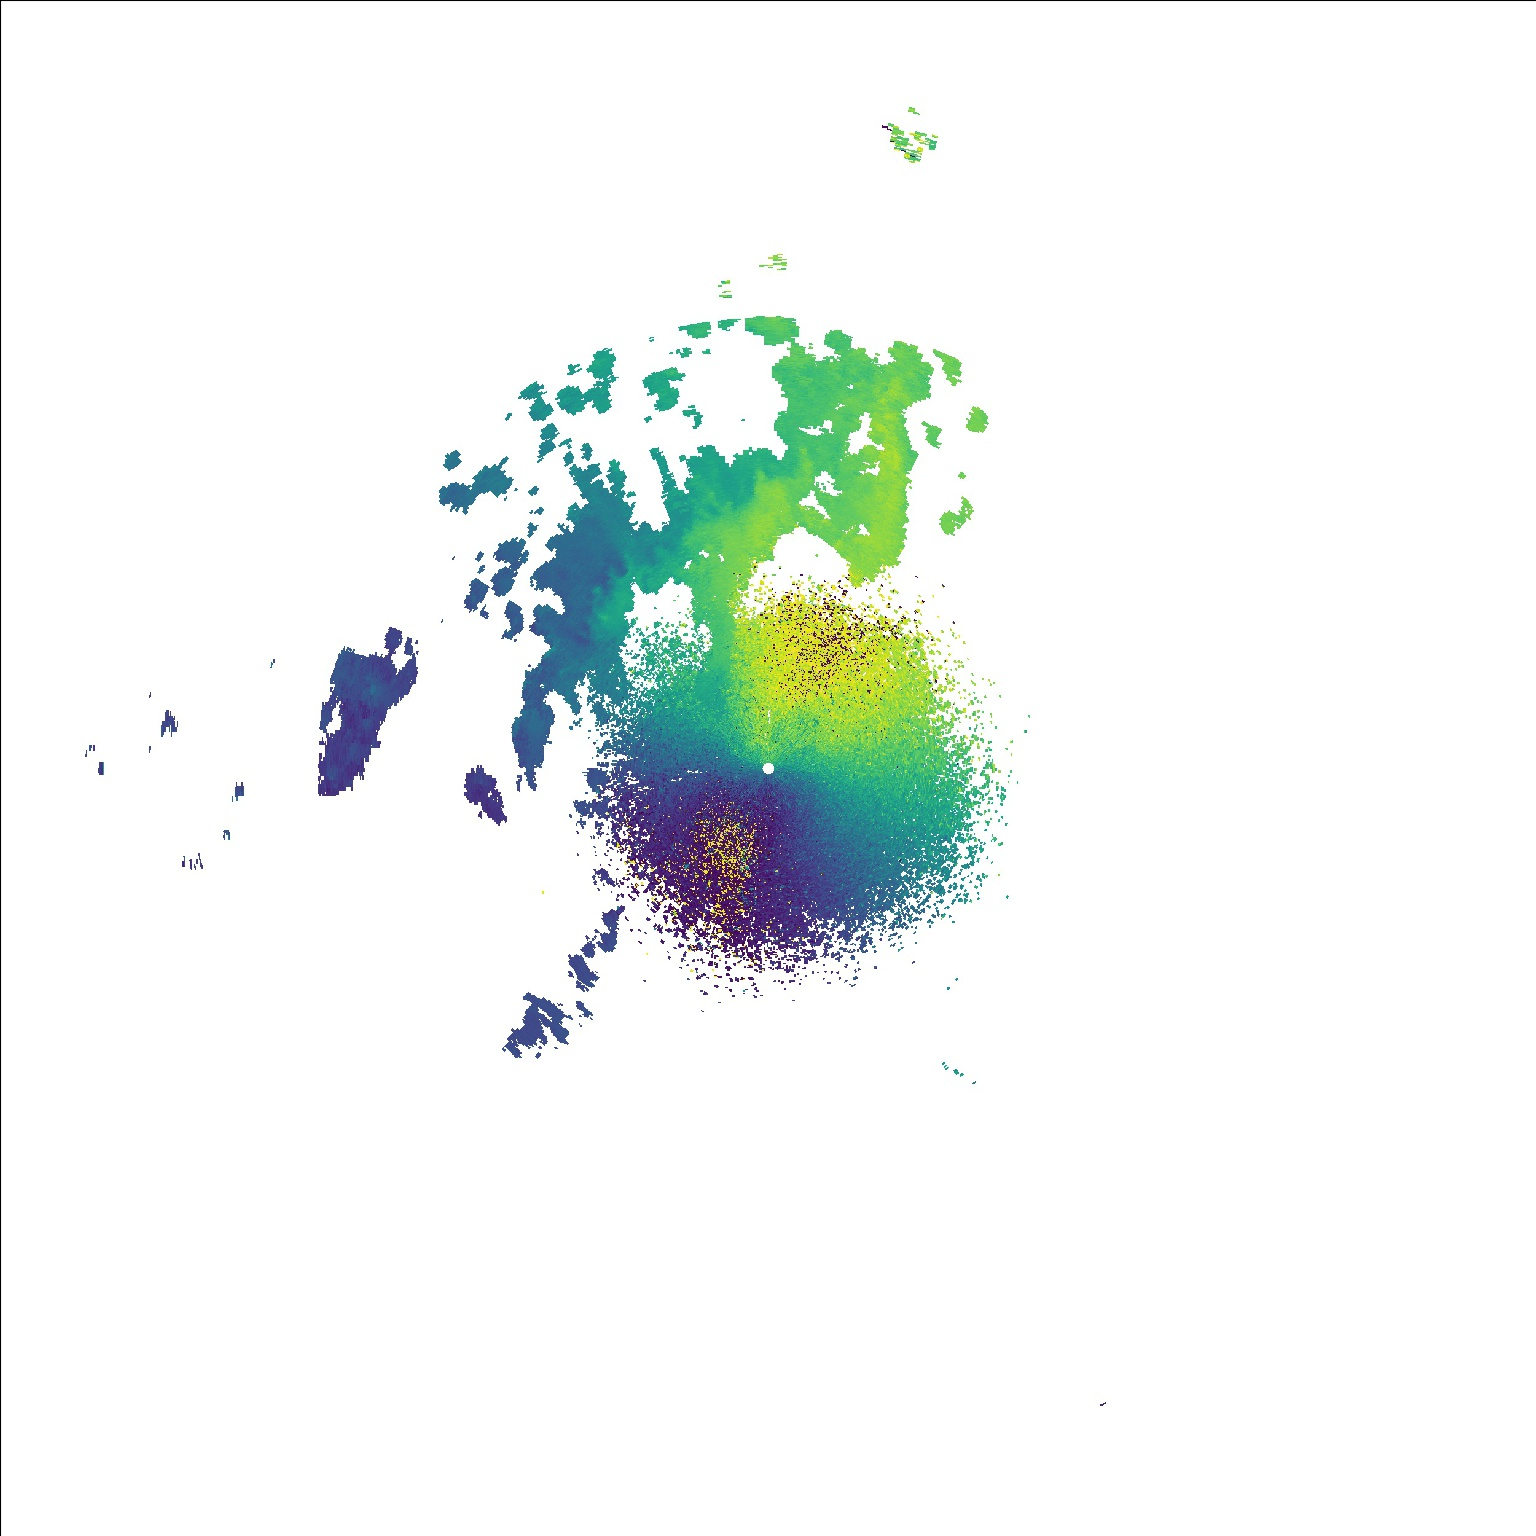fall: (931, 1054, 985, 1089)
